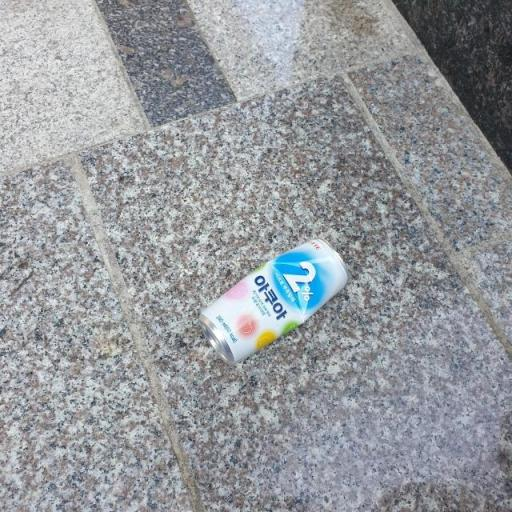metal: (186, 226, 370, 366)
